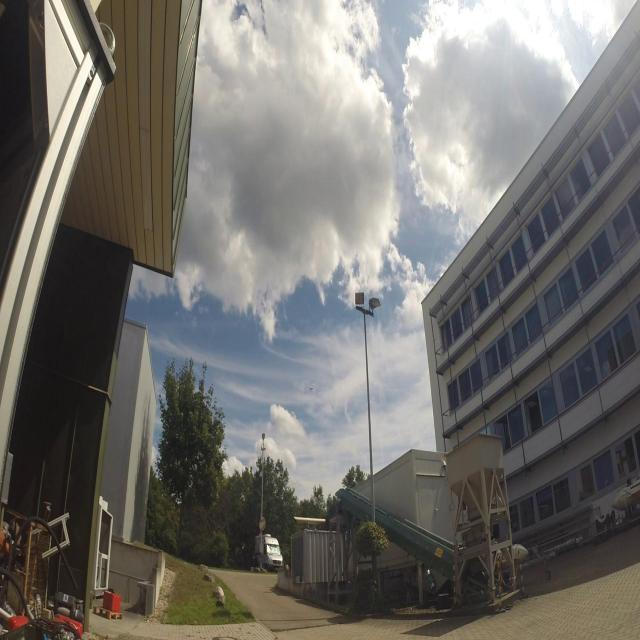drone: (304, 380, 316, 395)
